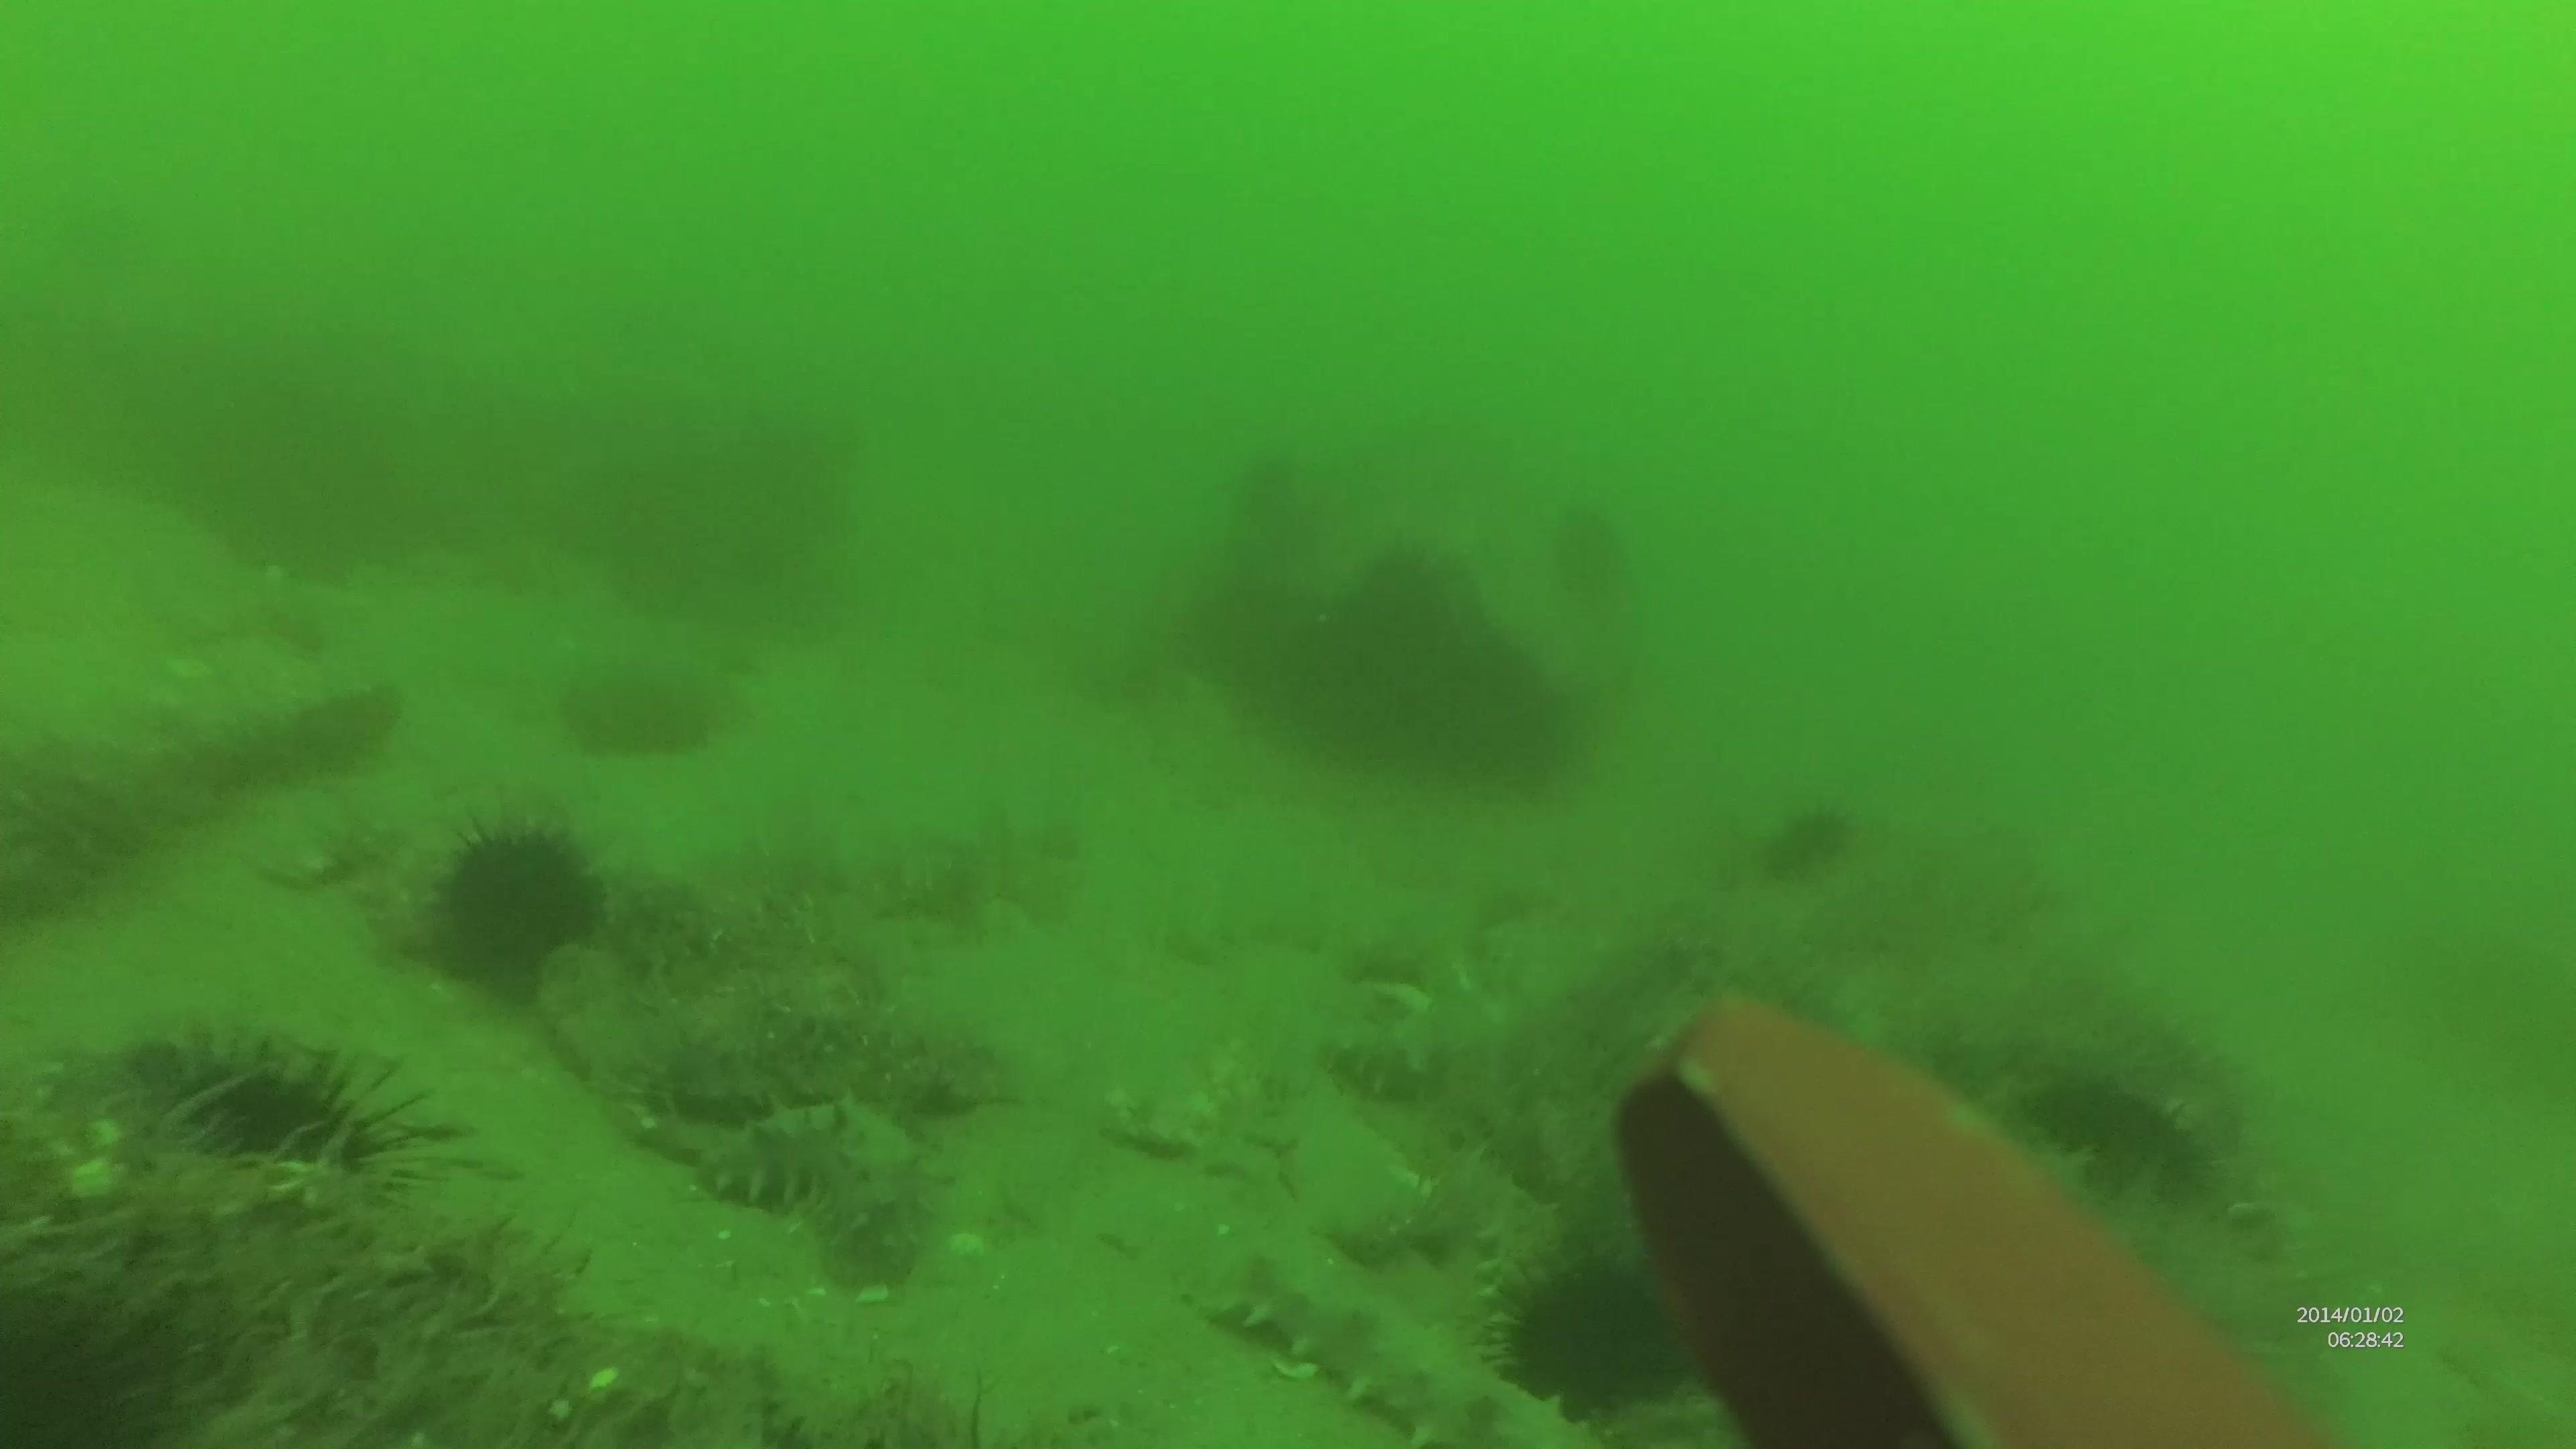echinus: (122, 1016, 448, 1196), (1488, 1242, 1698, 1421), (421, 810, 610, 994), (2013, 1056, 2222, 1210), (556, 651, 725, 766), (1752, 794, 1859, 886)
holothurian: (1201, 1242, 1555, 1442), (653, 982, 1012, 1127), (686, 1090, 938, 1284), (1318, 1023, 1442, 1108)
